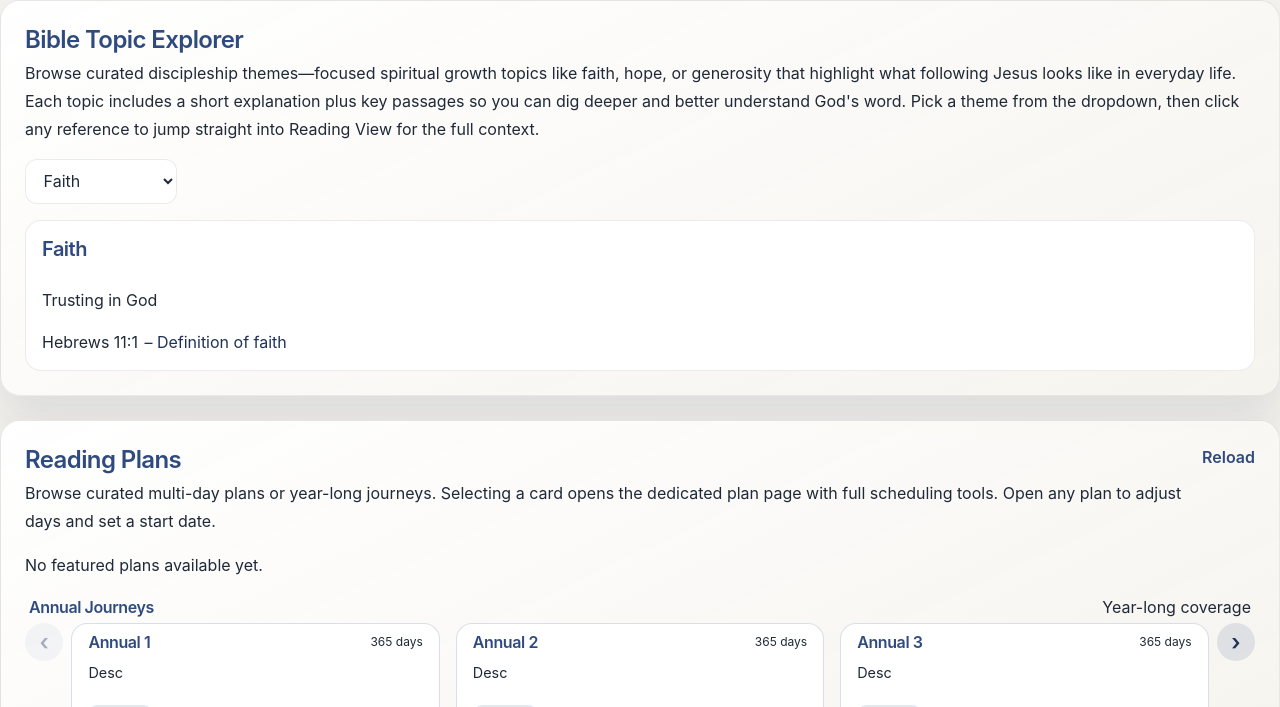
Scenario: StudyResources › Carousel Navigation › navigates annual carousel back with previous arrow
Click the button with class "carousel-arrow" showing "›": [1236, 642] box [1217,623,1255,661]
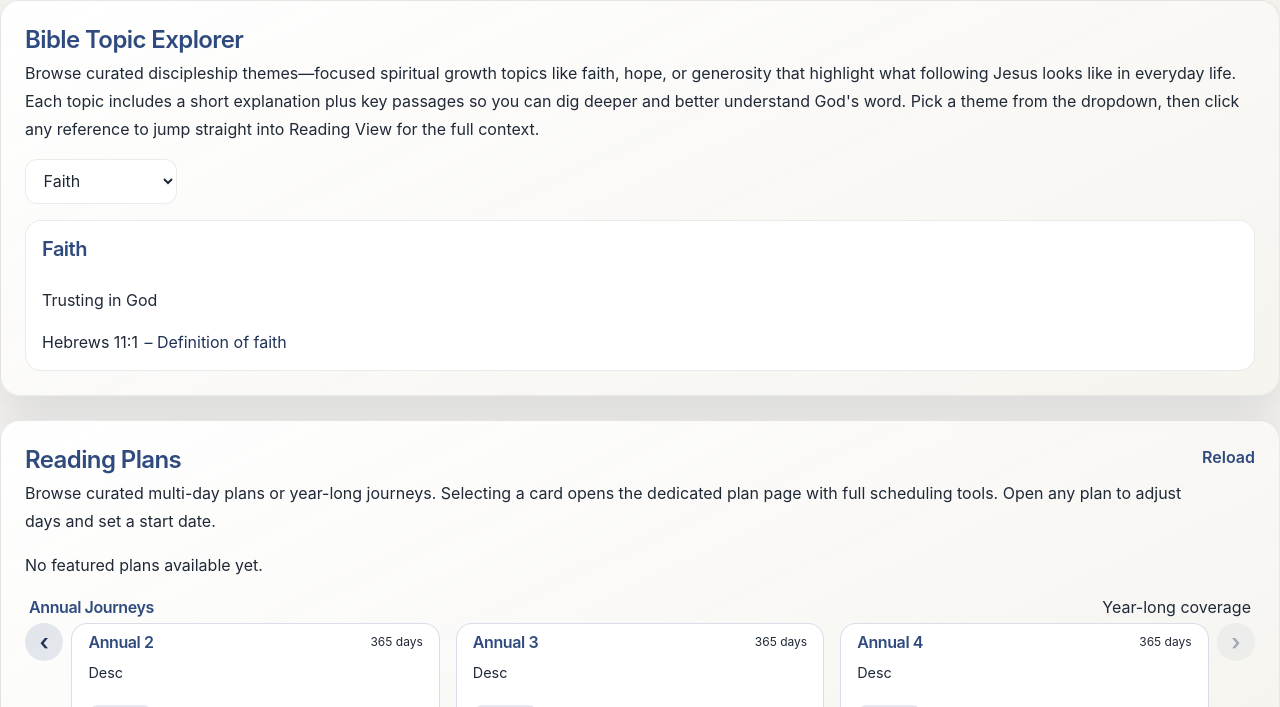
#  Go back
Click the button with class "carousel-arrow" showing "‹": [44, 642] box [25,623,63,661]
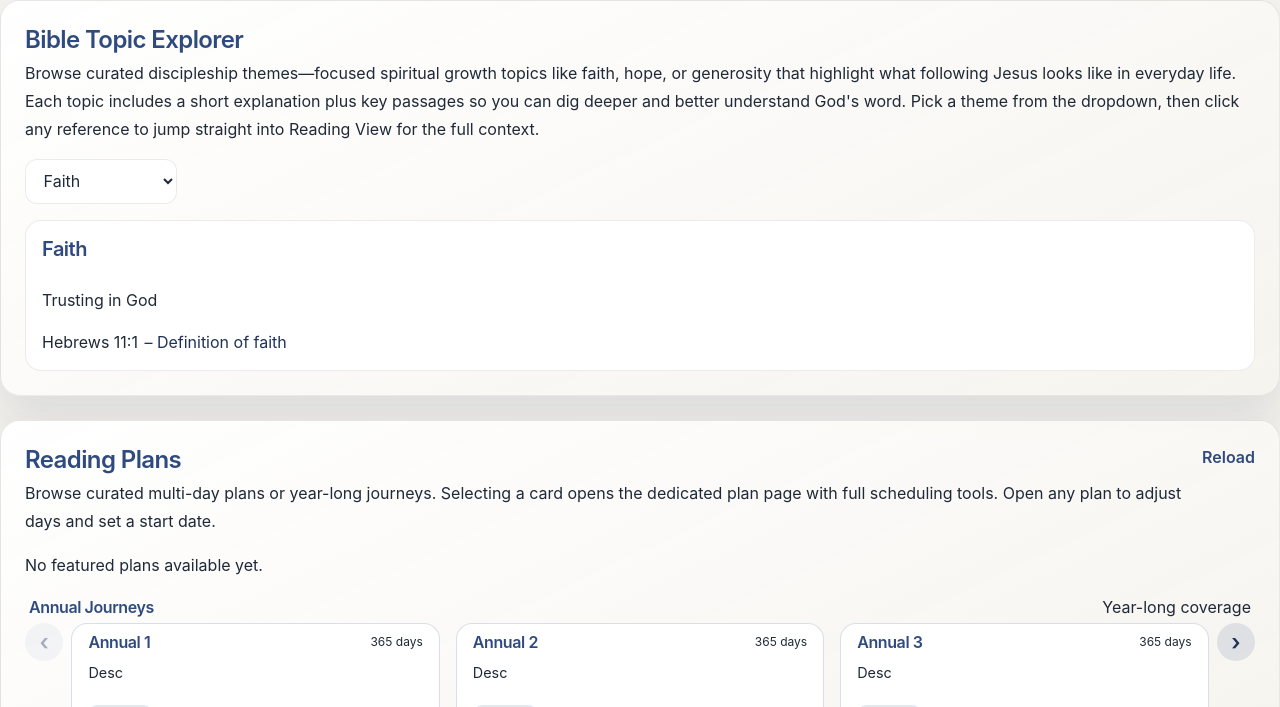
Expected: the text "Annual 1" is shown, [88,632,150,652]
